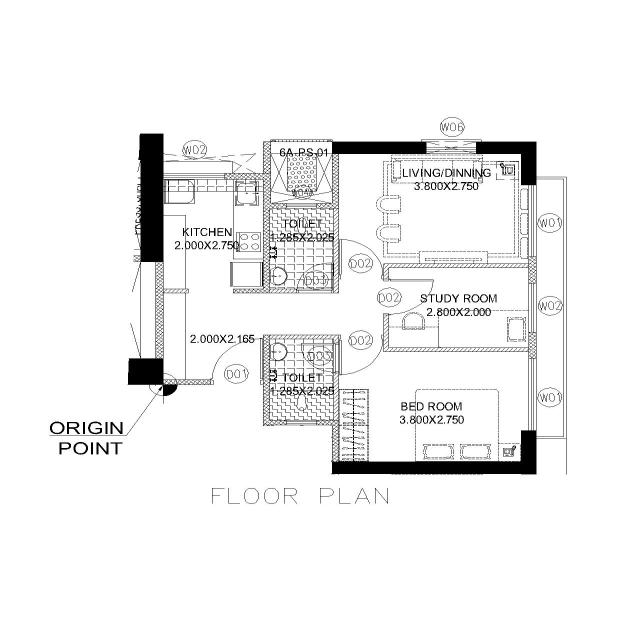Column: (138, 132, 166, 263), (475, 140, 537, 187), (331, 461, 537, 475), (331, 140, 427, 156), (127, 357, 165, 386), (520, 430, 538, 475)
Door: (338, 334, 385, 342), (210, 379, 264, 385), (382, 278, 390, 316), (337, 274, 385, 280), (295, 288, 335, 294), (333, 342, 340, 374)
Ventilator: (286, 202, 318, 210), (286, 419, 318, 426)
Window: (528, 358, 538, 432), (528, 184, 538, 258), (425, 141, 477, 155), (528, 282, 538, 334), (162, 172, 226, 180)
